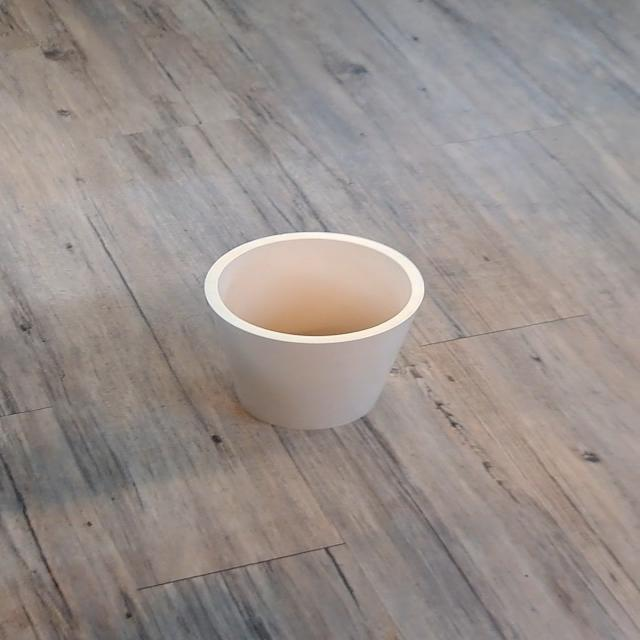CORAL: (175, 214, 445, 430)
